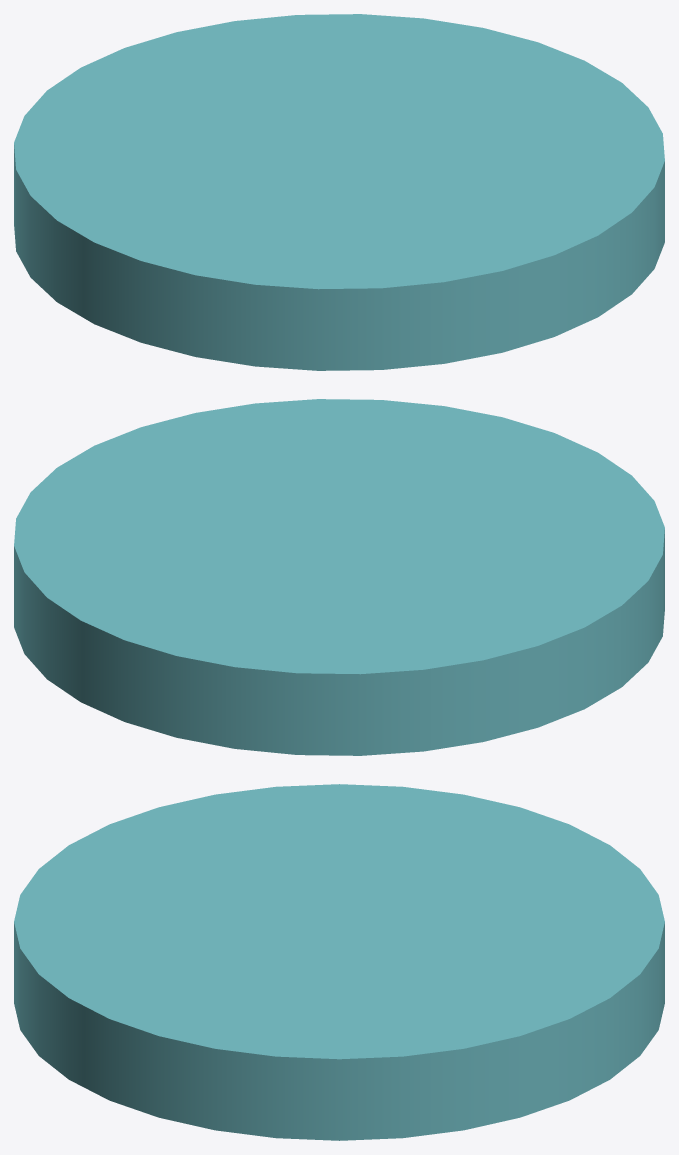
Rendered from water_cylinder_placeholder.glb.
The picture shows the model from 3 angles, top to bottom: view 1: azimuth 30°, elevation 25°; view 2: azimuth 150°, elevation 25°; view 3: azimuth 270°, elevation 25°; orthographic projection.
Parts seen in each view (by area): view 1: water_cylinder_placeholder; view 2: water_cylinder_placeholder; view 3: water_cylinder_placeholder.
Part boxes in pixels (bbox=[...]): water_cylinder_placeholder: bbox=[14, 14, 664, 370]; water_cylinder_placeholder: bbox=[14, 399, 664, 755]; water_cylinder_placeholder: bbox=[14, 784, 664, 1140].
Size of the model in its own units: 8.1 by 1.12 by 8.1.
